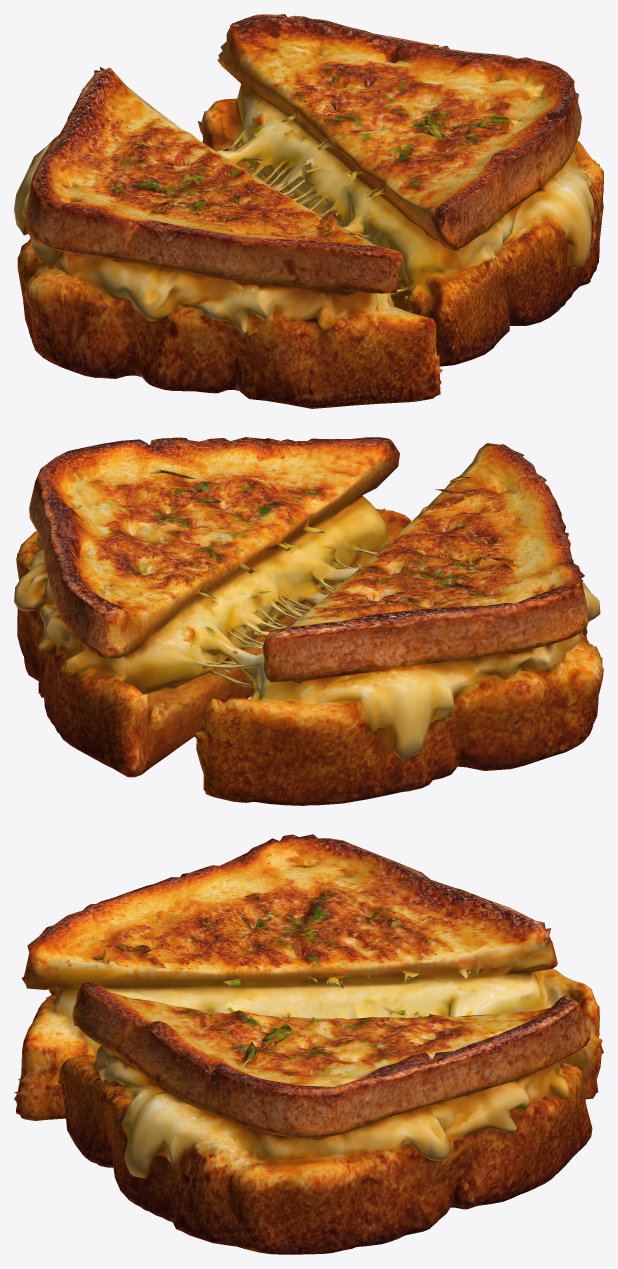
Rendered from Cheese-sand.glb.
The picture shows the model from 3 angles, top to bottom: view 1: azimuth 30°, elevation 25°; view 2: azimuth 150°, elevation 25°; view 3: azimuth 270°, elevation 25°; orthographic projection.
Visible parts, largest first — view 1: tripo_node_b56f2858-b077-4d13-a9ac-9a4ae3a6cf03; view 2: tripo_node_b56f2858-b077-4d13-a9ac-9a4ae3a6cf03; view 3: tripo_node_b56f2858-b077-4d13-a9ac-9a4ae3a6cf03.
Part boxes in pixels (x1=…): tripo_node_b56f2858-b077-4d13-a9ac-9a4ae3a6cf03: x1=14, y1=14, x2=603, y2=408; tripo_node_b56f2858-b077-4d13-a9ac-9a4ae3a6cf03: x1=14, y1=437, x2=603, y2=805; tripo_node_b56f2858-b077-4d13-a9ac-9a4ae3a6cf03: x1=14, y1=834, x2=603, y2=1254.
Bounding box in the file's own units: 0.9783 × 0.272 × 0.8888.
1 material, 1 textured.
